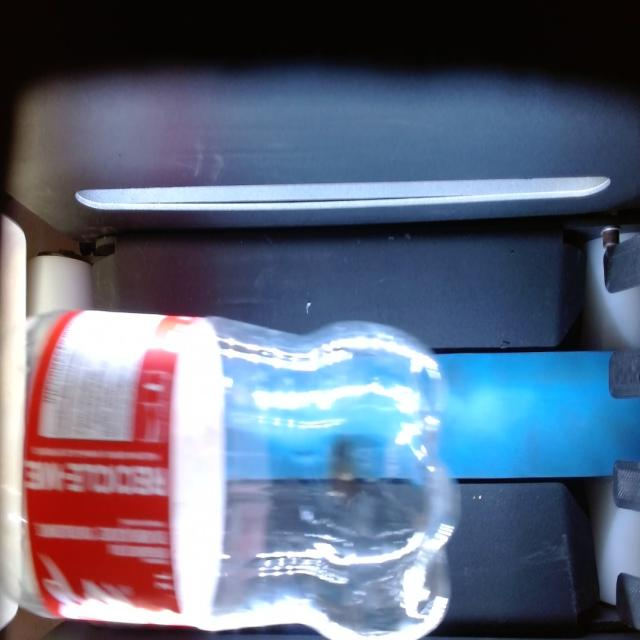bottom: (211, 318, 459, 638)
label: (24, 311, 224, 620)
neck: (0, 310, 57, 624)
